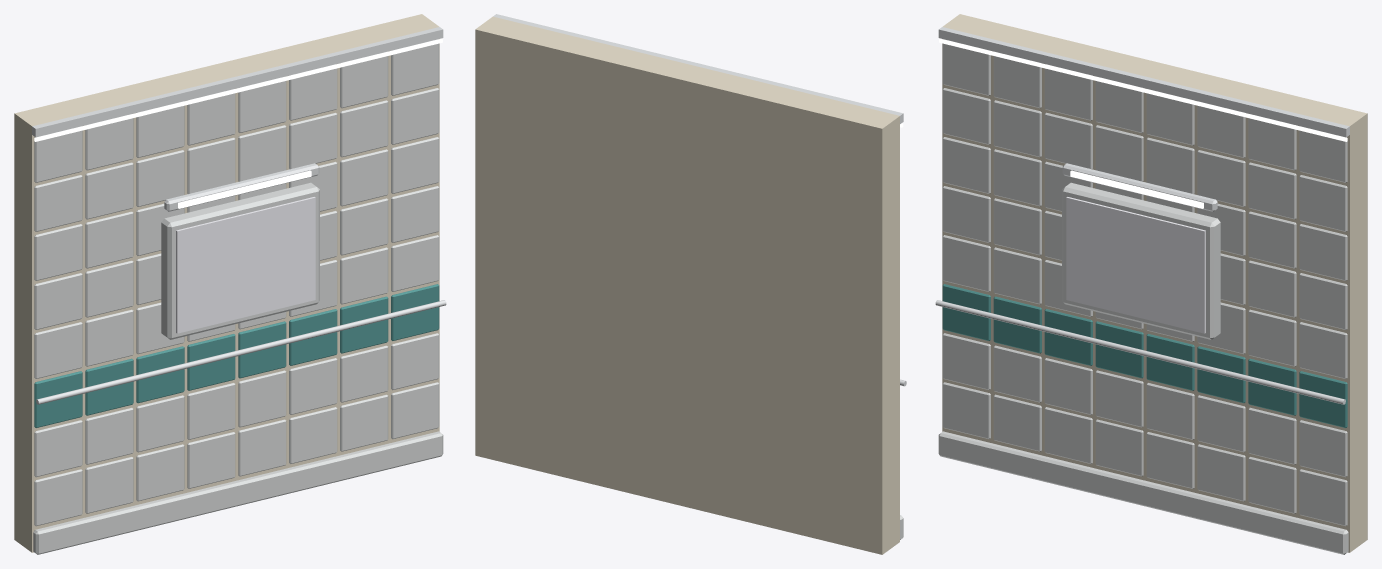
Rendered from wall_hm_tile2.glb.
The picture shows the model from 3 angles, left to right: view 1: azimuth 30°, elevation 25°; view 2: azimuth 150°, elevation 25°; view 3: azimuth 330°, elevation 25°; orthographic projection.
Visible parts, largest first — view 1: wall_hm_tile2; view 2: wall_hm_tile2; view 3: wall_hm_tile2.
Part boxes in pixels (x1=…): wall_hm_tile2: x1=14, y1=14, x2=446, y2=554; wall_hm_tile2: x1=475, y1=14, x2=906, y2=554; wall_hm_tile2: x1=935, y1=14, x2=1367, y2=554.
Size of the model in its own units: 4 by 4 by 0.48.
